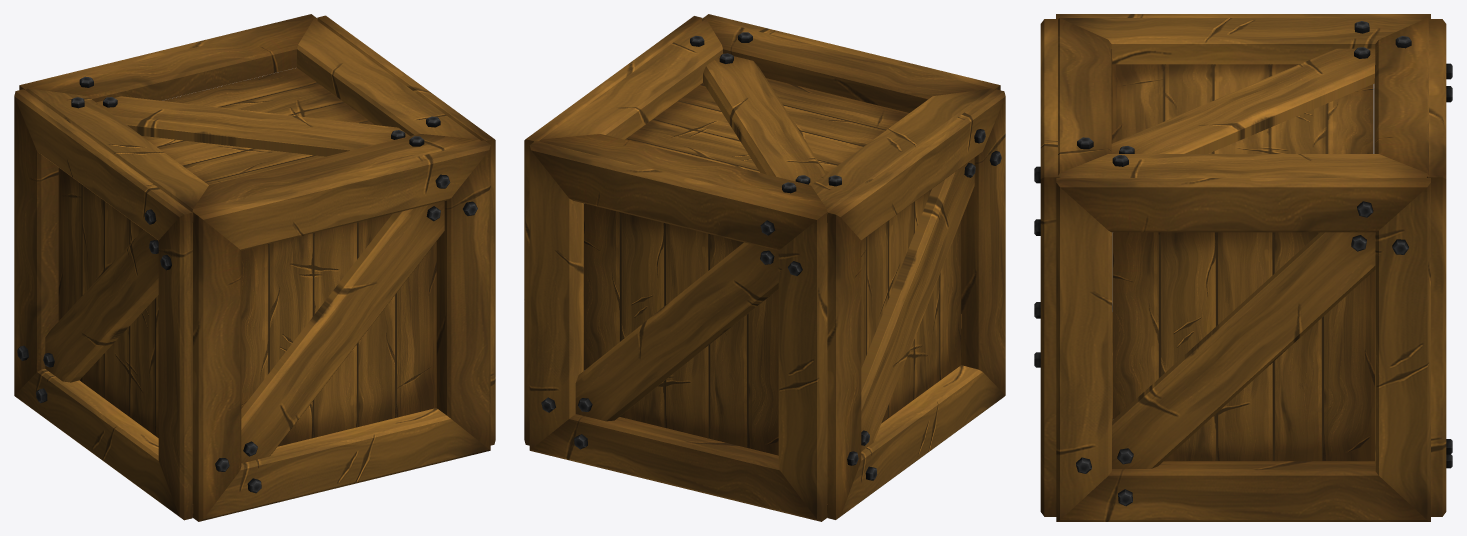
Rendered from Crate.fbx.
3 renders of one model, left to right at view 1: azimuth 30°, elevation 25°; view 2: azimuth 150°, elevation 25°; view 3: azimuth 270°, elevation 25°, orthographic. The views are drawn at different scales.
Visible parts, largest first — view 1: Crate01; view 2: Crate01; view 3: Crate01.
Boxes of the visible parts, x1=… form: Crate01: x1=14, y1=14, x2=495, y2=521; Crate01: x1=524, y1=14, x2=1005, y2=521; Crate01: x1=1034, y1=14, x2=1452, y2=521.
Bounding box in the file's own units: 2.23 × 2.23 × 2.07.
